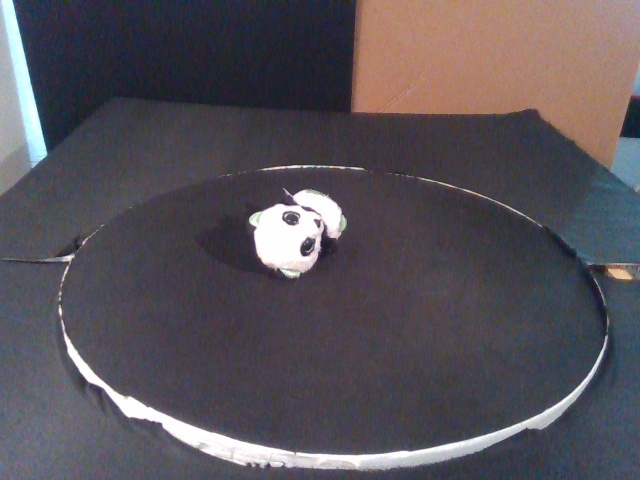teddy_bear: (244, 186, 348, 281)
